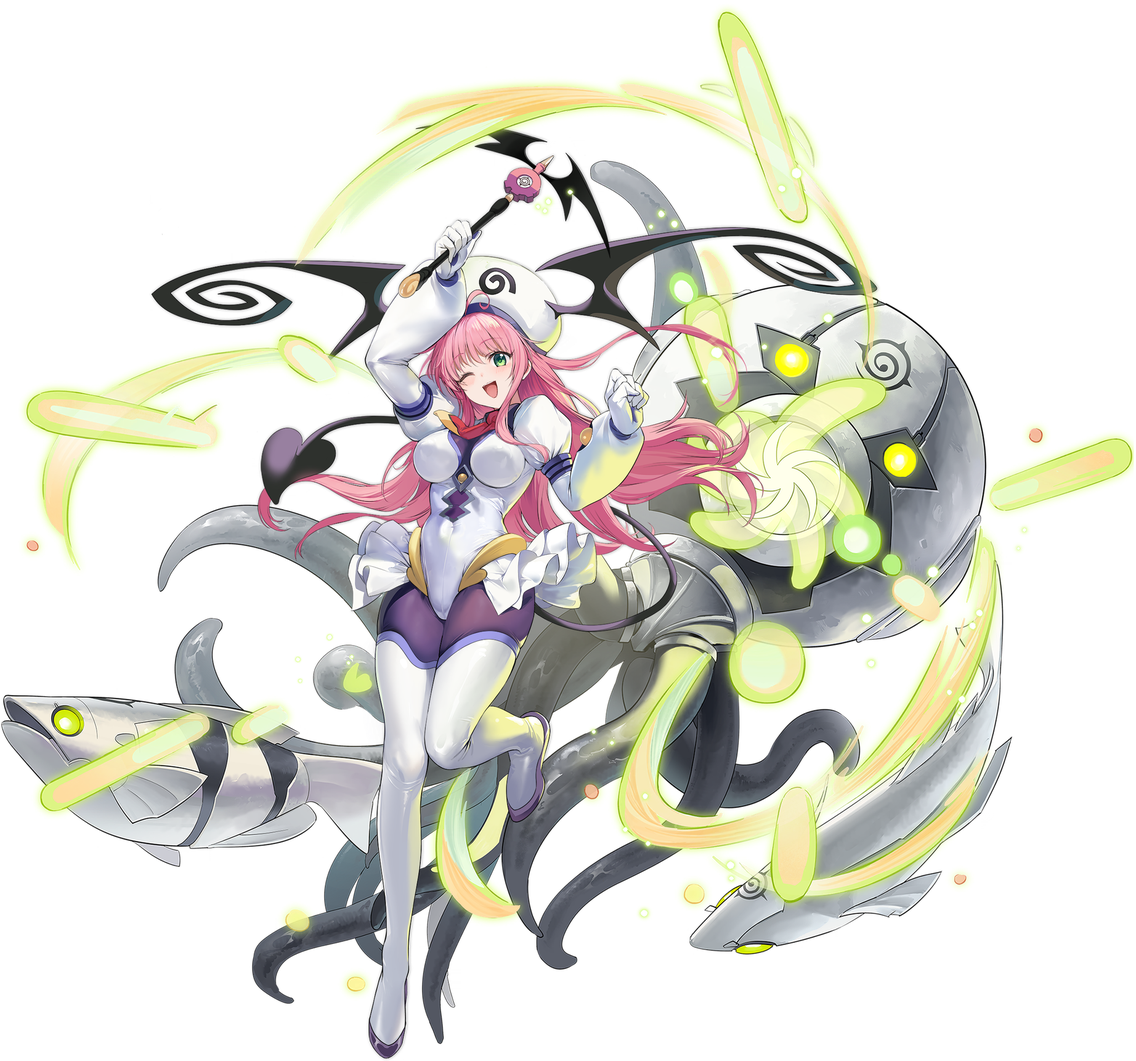person: (4, 257, 784, 1054)
